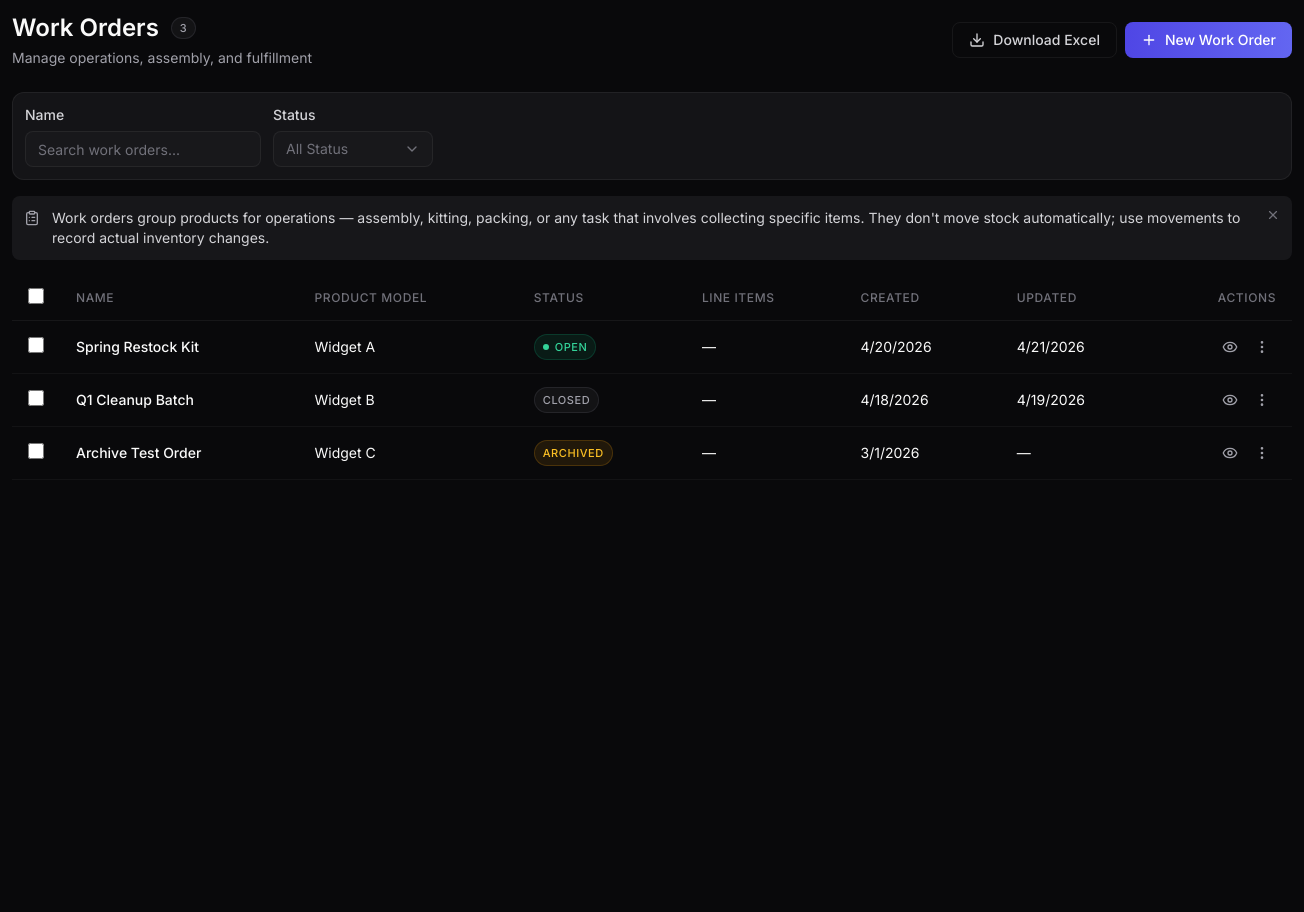
Test case: WorkOrderList › expands row to show contents on expand button click
Click the button titled "Expand contents" in the row of "Spring Restock Kit". click: point(1230, 347)
box: [1216,333,1244,361]
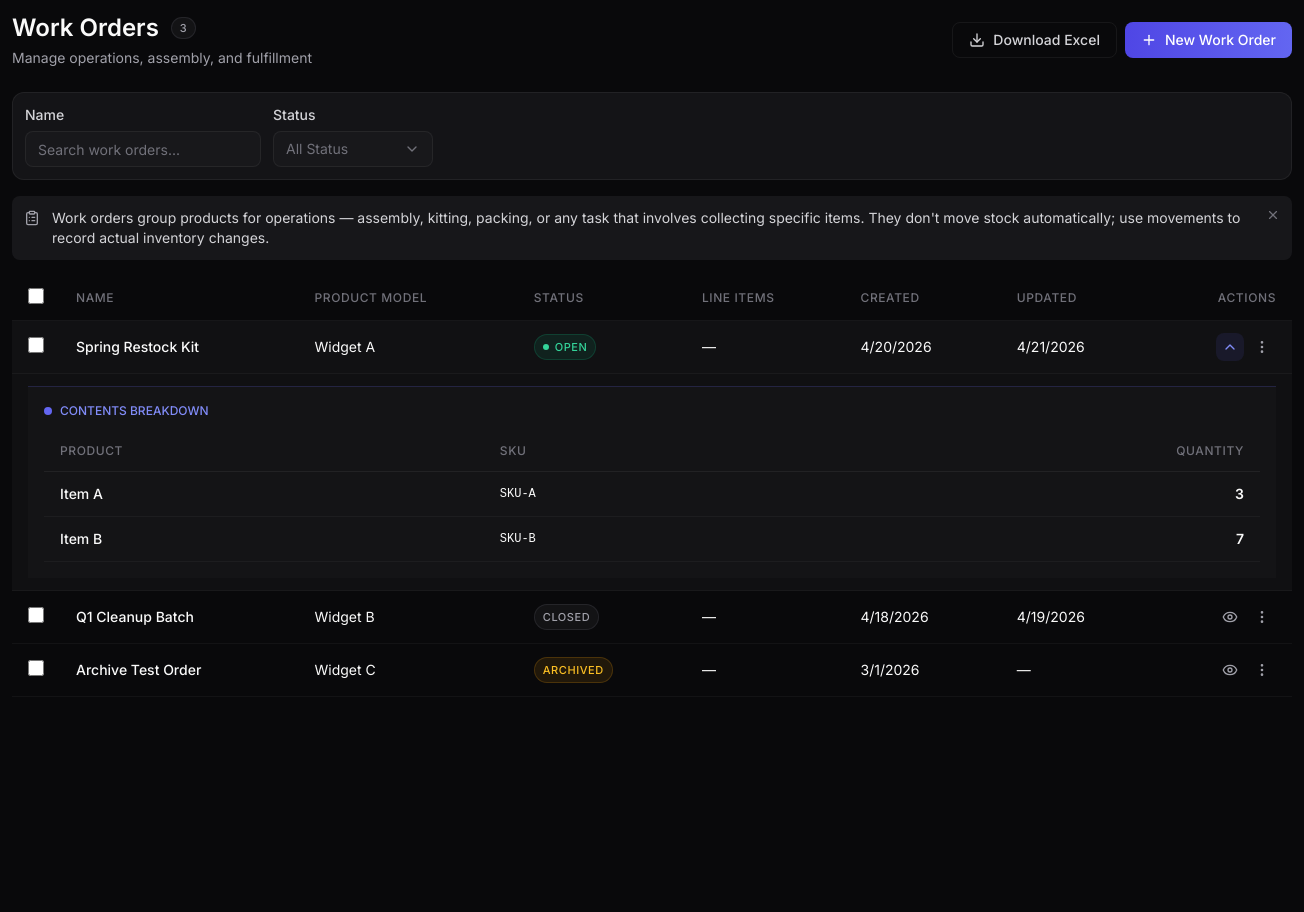
Expected: the heading "Contents Breakdown" is shown, [44,403,208,418]
Expected: the text "Item A" is shown, [44,472,484,516]
Expected: the text "SKU-A" is shown, [484,472,798,516]
